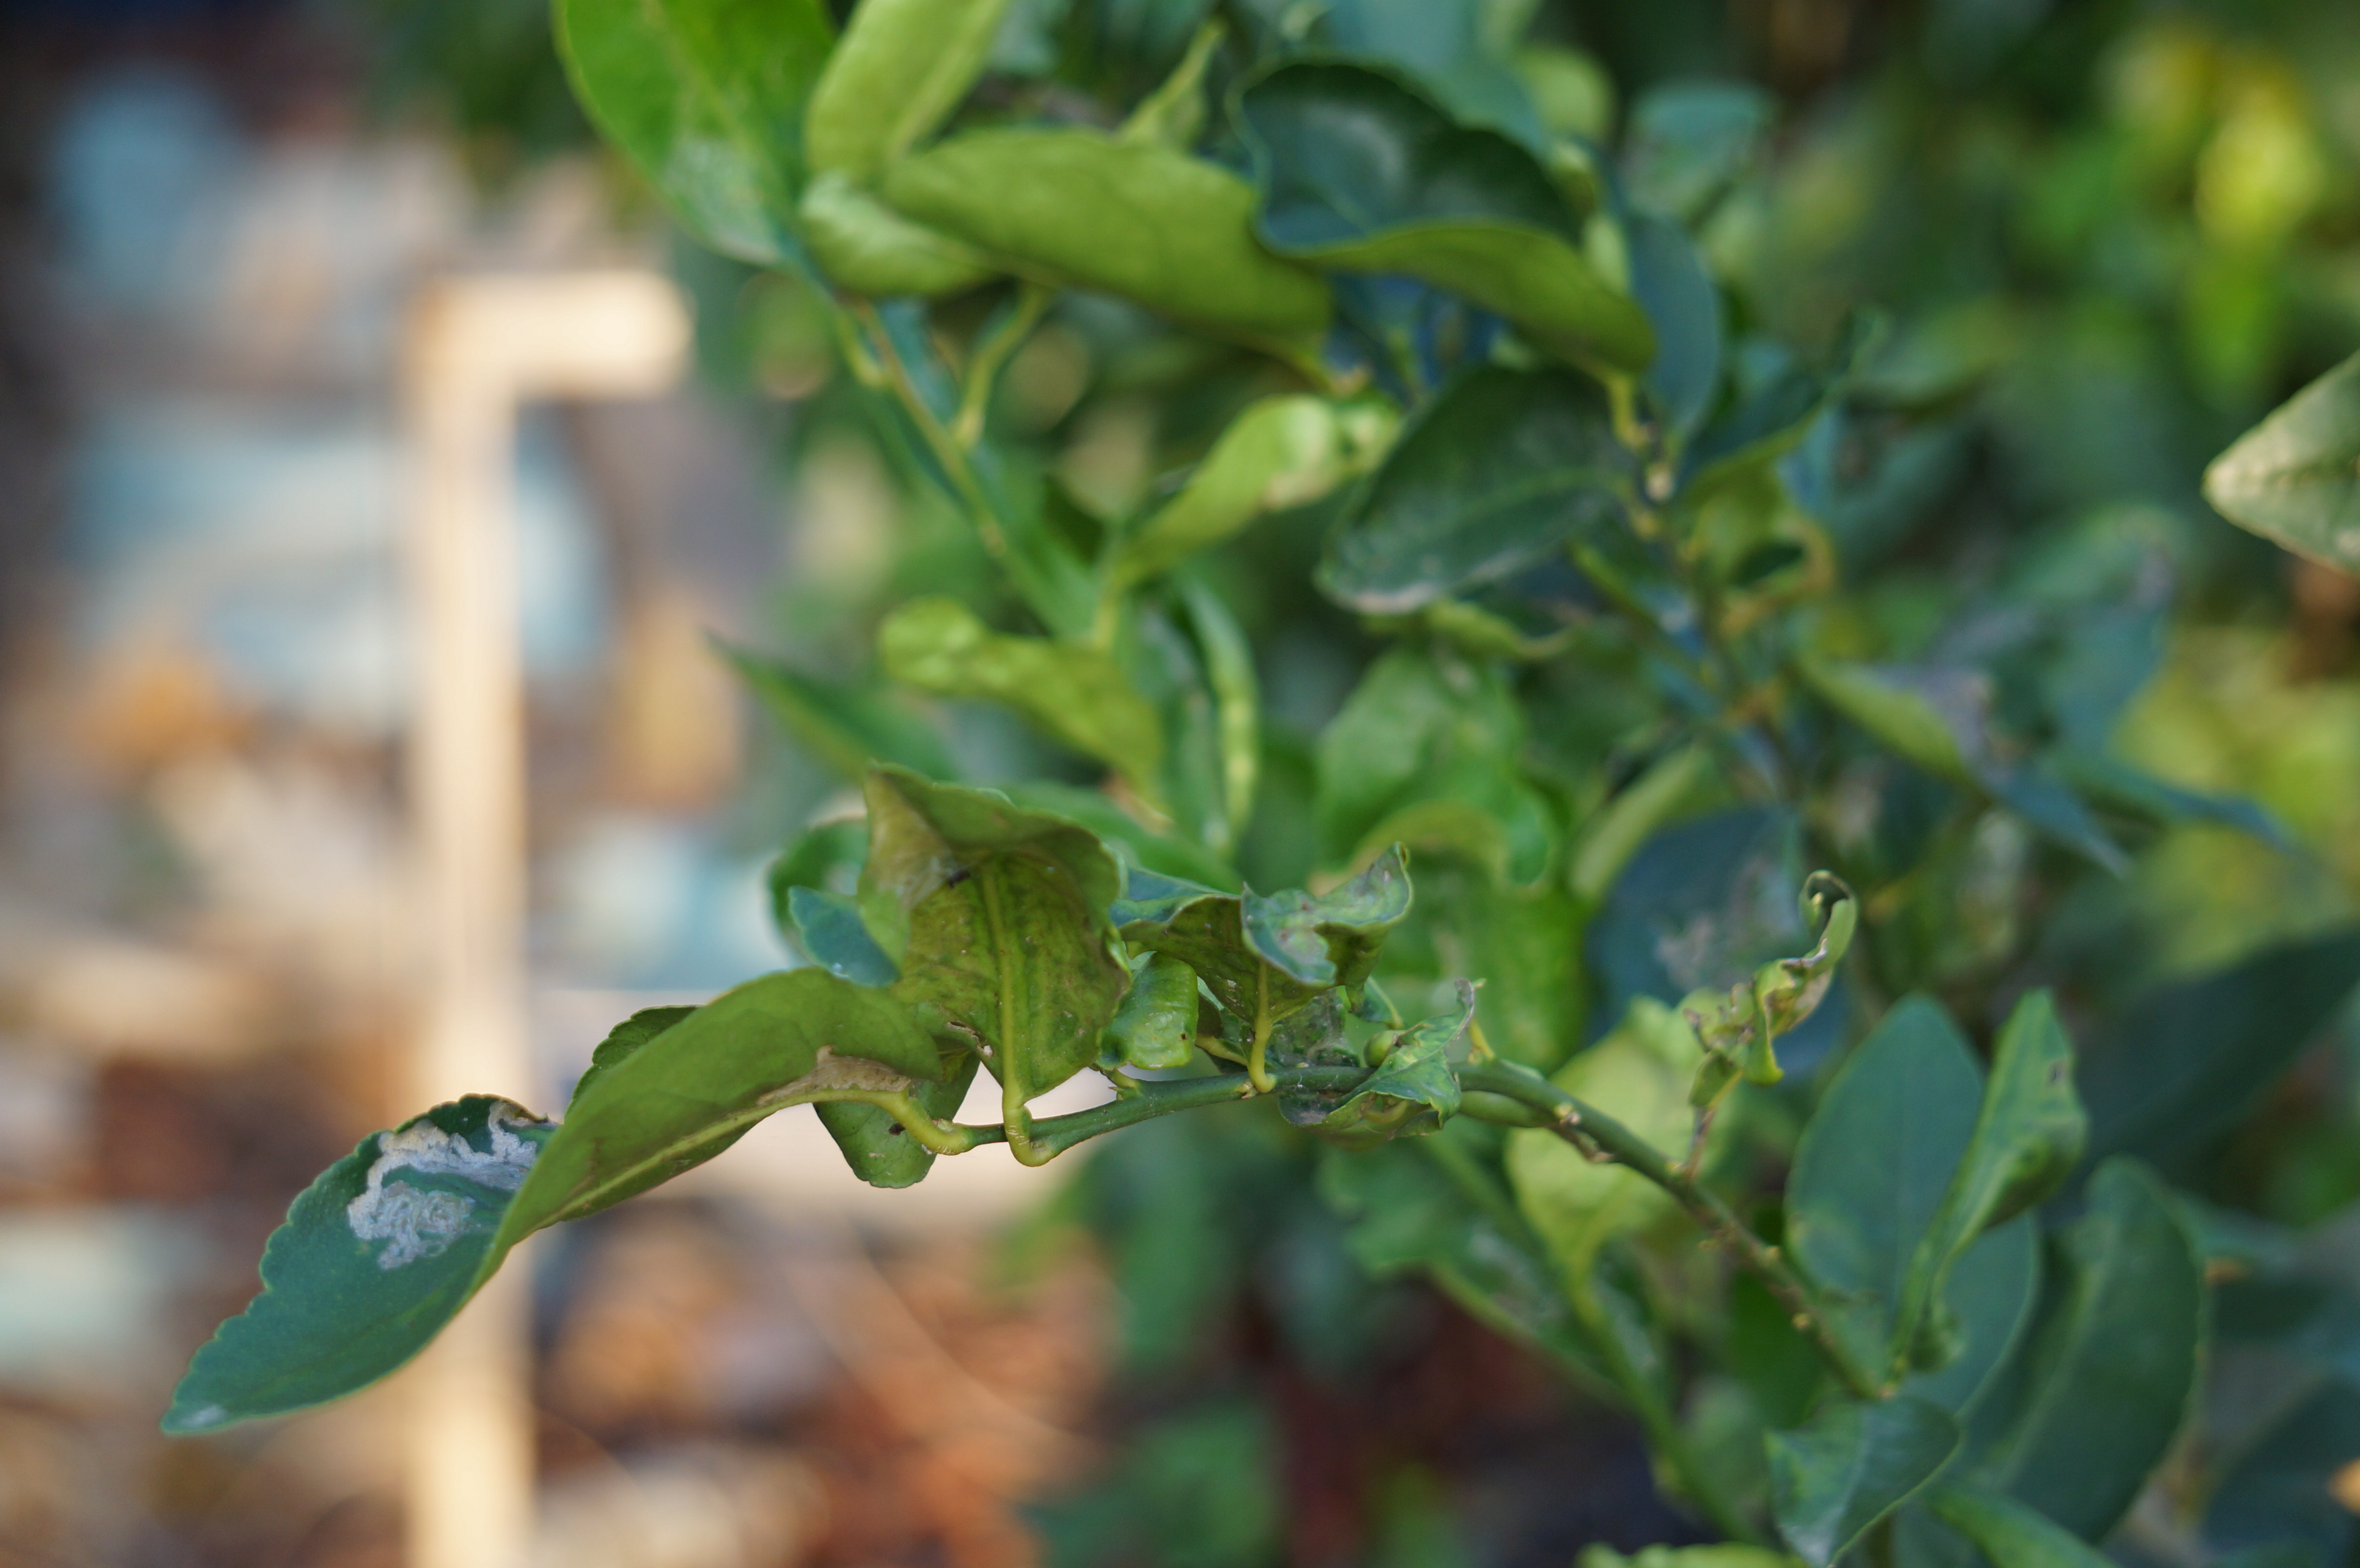curly: (1679, 857, 1870, 1129)
damage: (343, 1085, 567, 1281), (758, 1032, 917, 1106)
